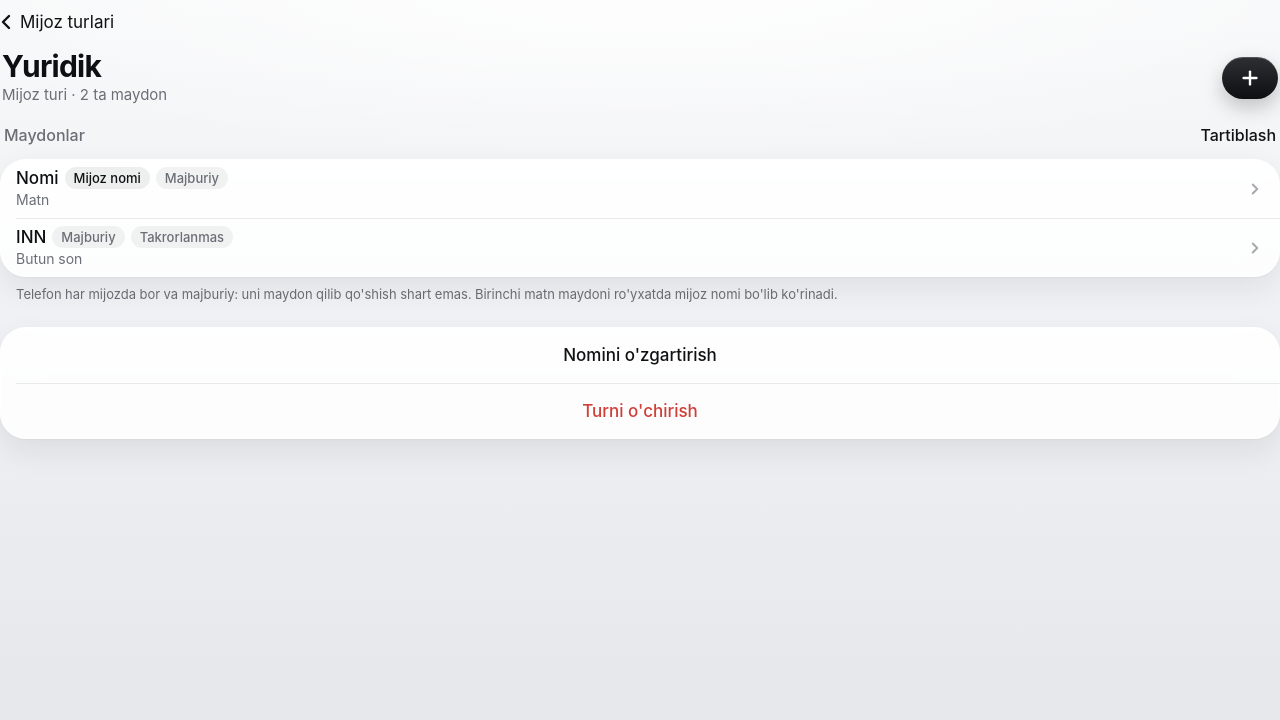
Test case: a text field is added with its marks; the sheet says why the API refused
Click the button named "Maydon qo'shish".
click(1250, 78)  # box 1222,57 -> 1278,99
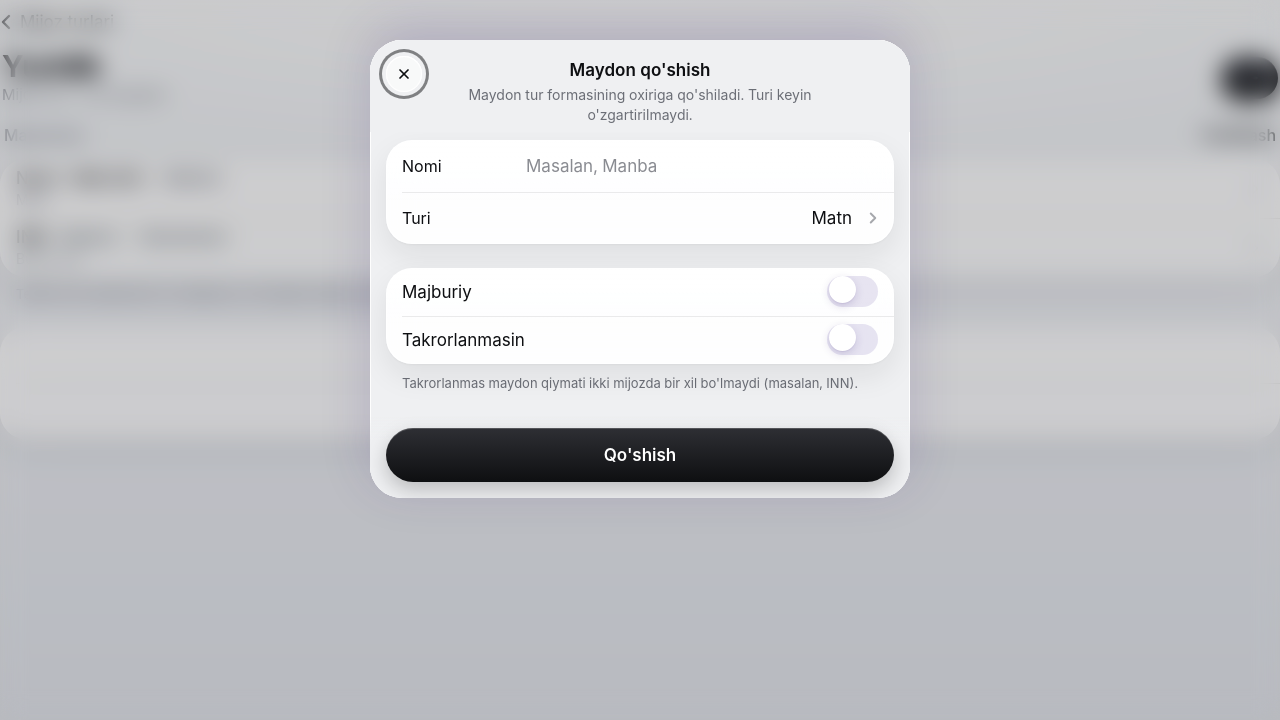
Type "inn" into the field labelled "Nomi".
click(702, 166); type("inn")  # box 526,144 -> 878,188
Click the button "Qo'shish".
click(640, 455)  # box 386,428 -> 894,482
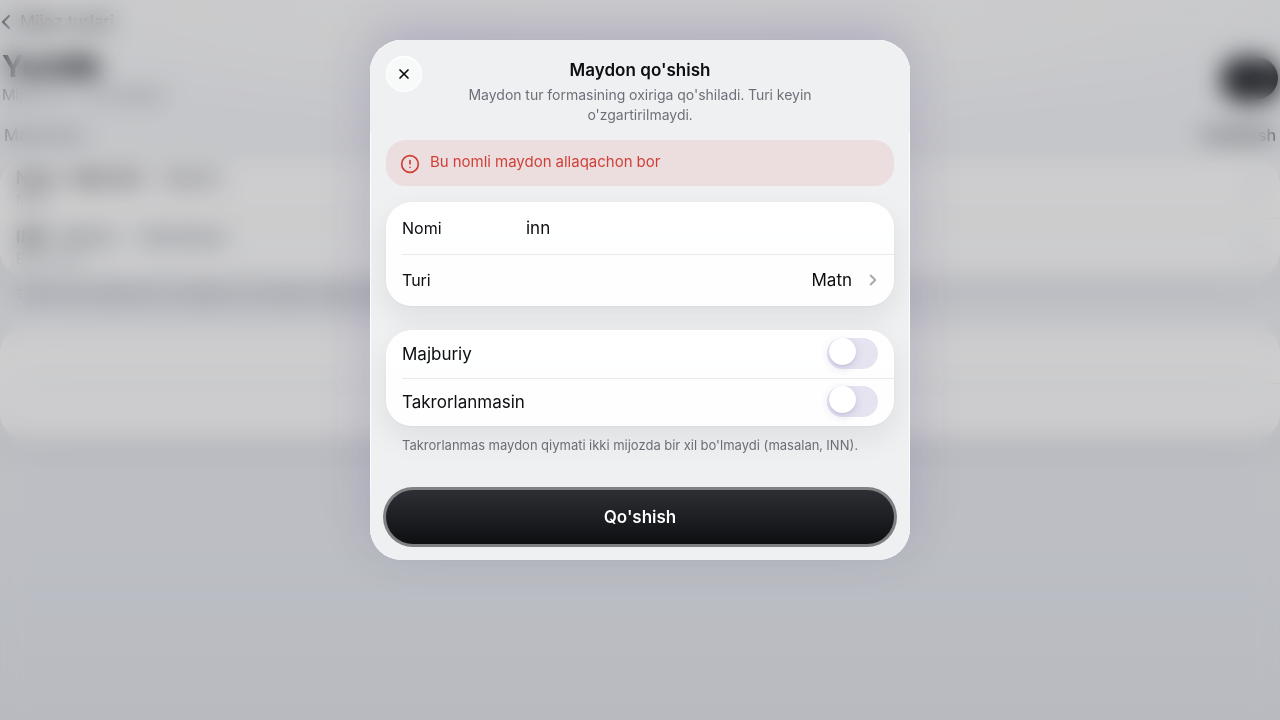
Check: the text "Bu nomli maydon allaqachon bor" is shown, box 430,152 -> 660,171
Replace the text in the field labelled "Nomi" with "Guvohnoma" at (702, 228), box 526,206 -> 878,250
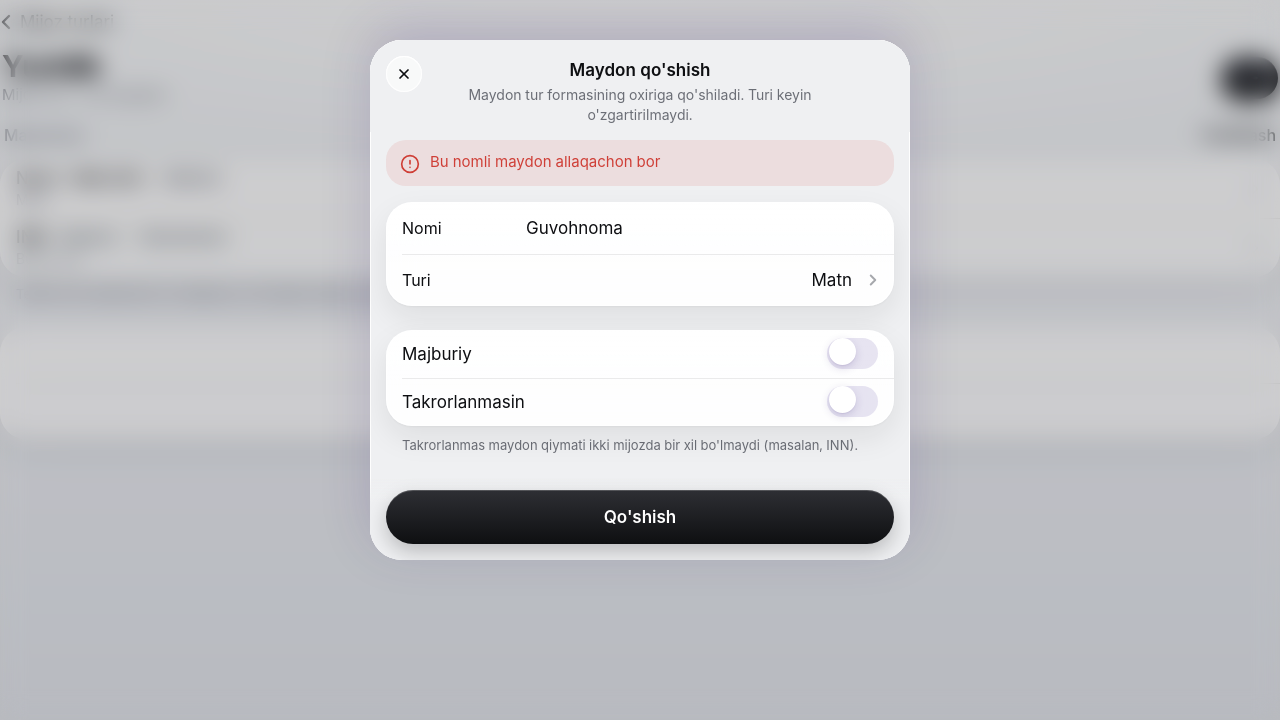
Click the 1st switch named "Majburiy".
click(852, 354)  # box 827,338 -> 878,369
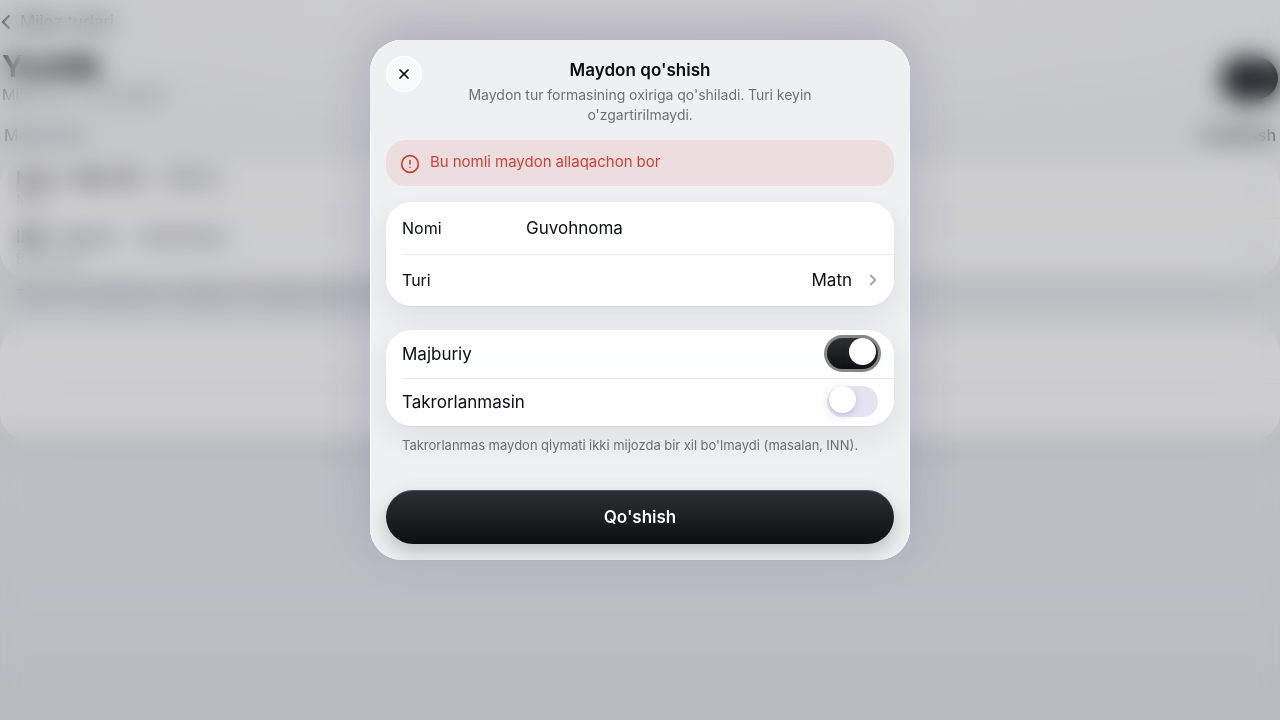
Click the switch named "Takrorlanmasin" in the row of "Takrorlanmasin".
click(852, 402)  # box 827,386 -> 878,417
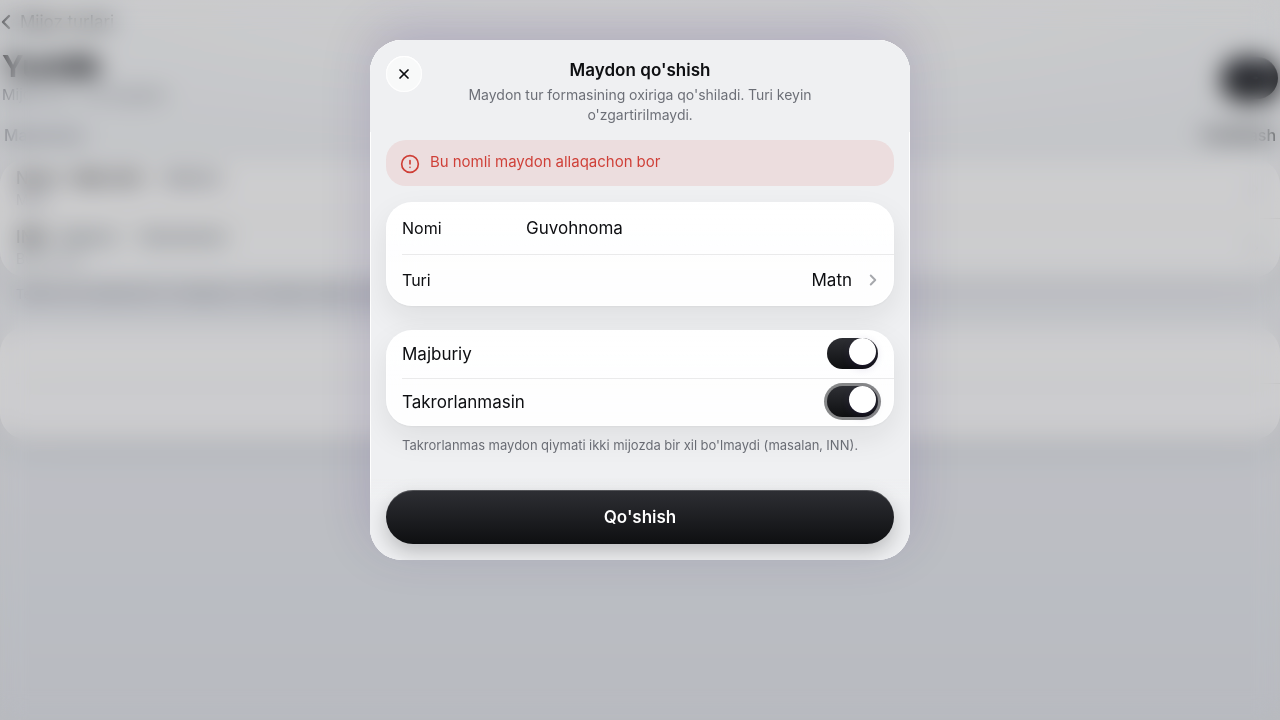
Click the button "Qo'shish".
click(640, 517)  # box 386,490 -> 894,544
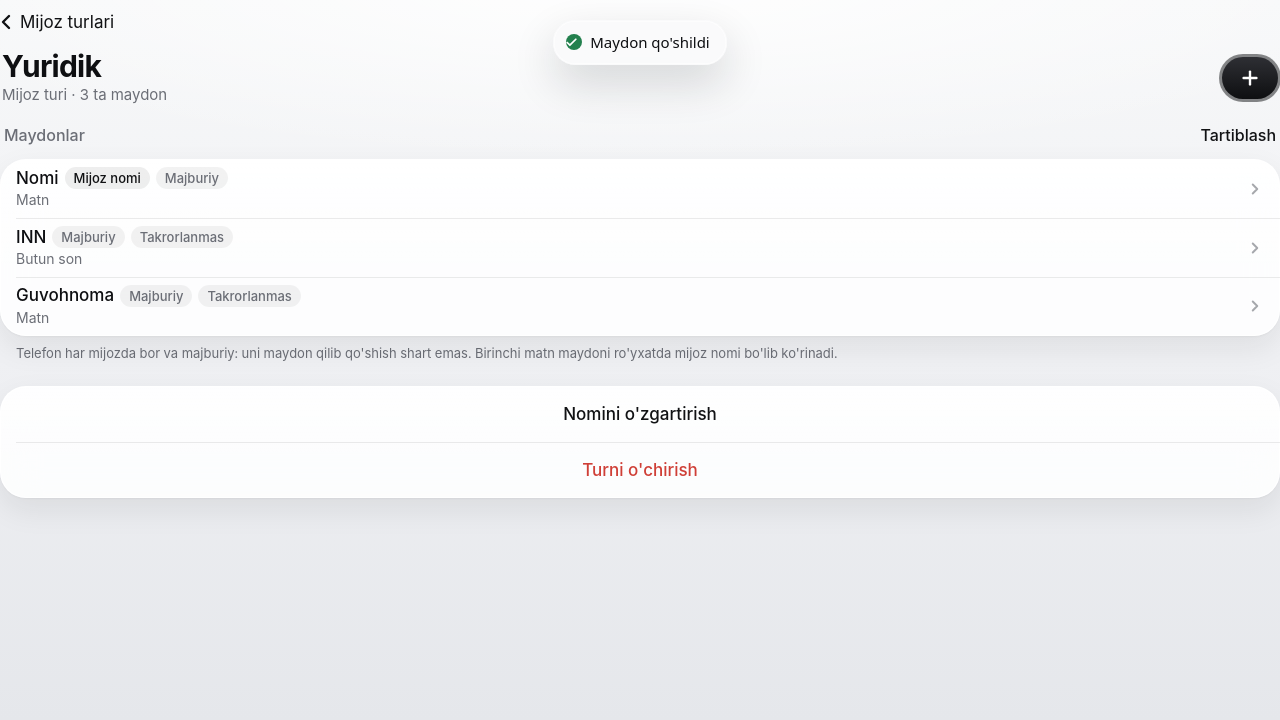
Check: the dialog is gone
